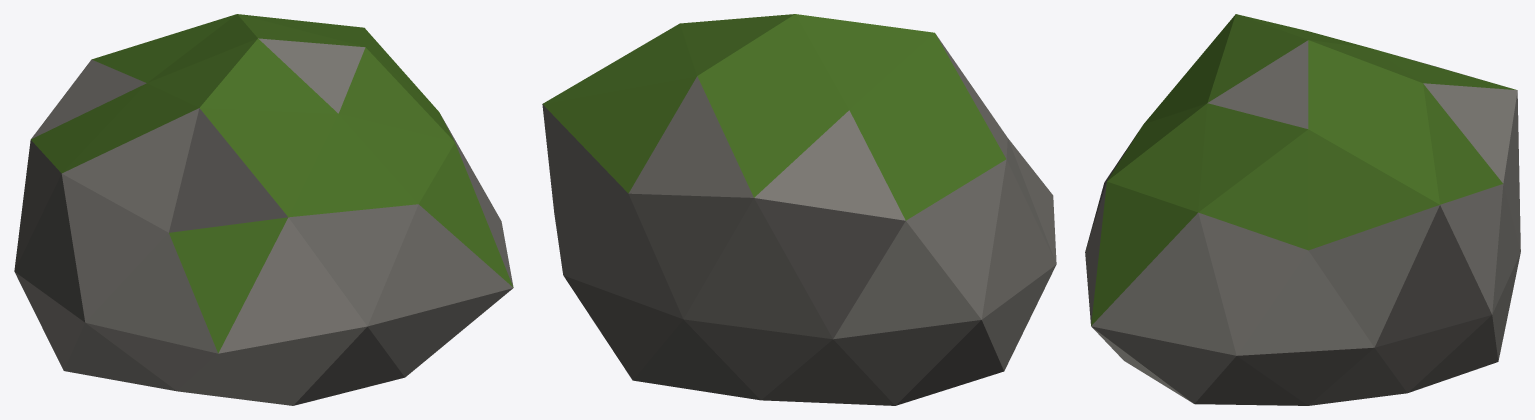
File: boulder.obj
3 renders of one model, left to right at view 1: azimuth 30°, elevation 25°; view 2: azimuth 150°, elevation 25°; view 3: azimuth 270°, elevation 25°, orthographic. The views are drawn at different scales.
Visible parts, largest first — view 1: boulder; view 2: boulder; view 3: boulder.
Part boxes in pixels (bbox=[...]): boulder: bbox=[14, 14, 513, 405]; boulder: bbox=[542, 14, 1056, 405]; boulder: bbox=[1085, 14, 1520, 405].
Size of the model in its own units: 2.32 by 1.58 by 2.06.
